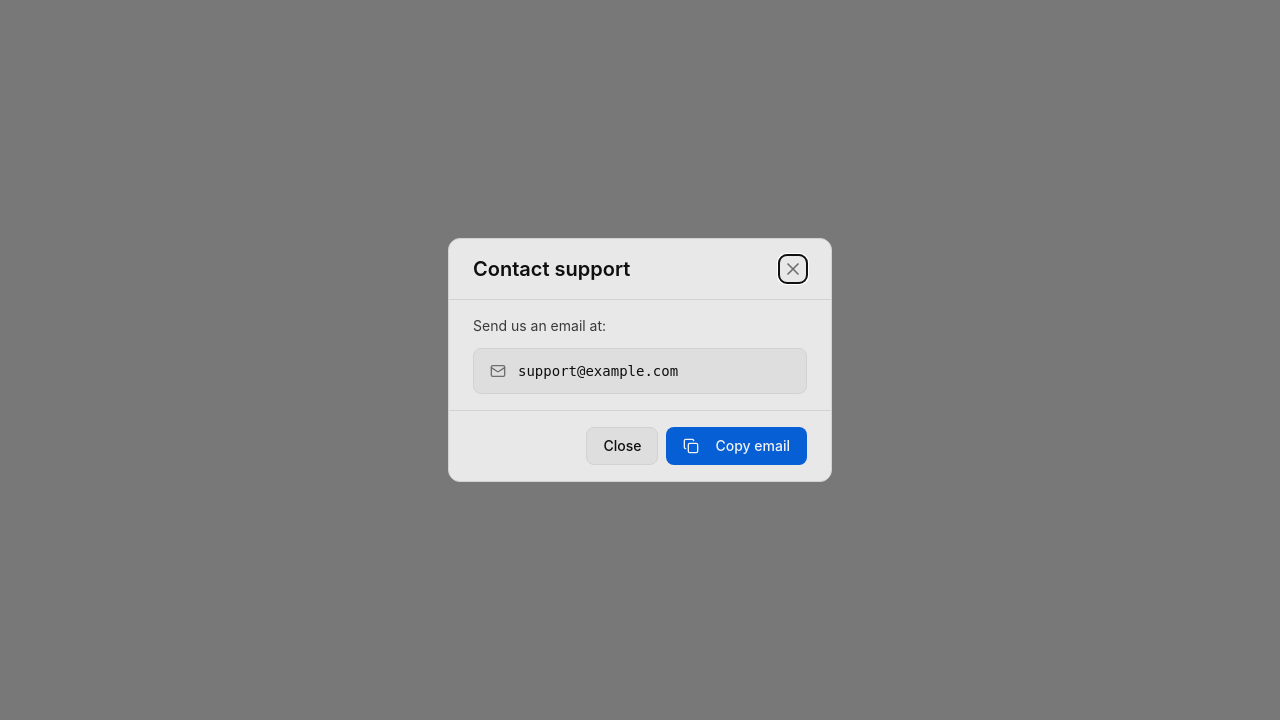
Test case: SupportModal › copy button writes email to clipboard and shows 'Copied'
The width and height of the screenshot is (1280, 720).
Click the button "Copy email" at (737, 446), box [666,427,807,465]
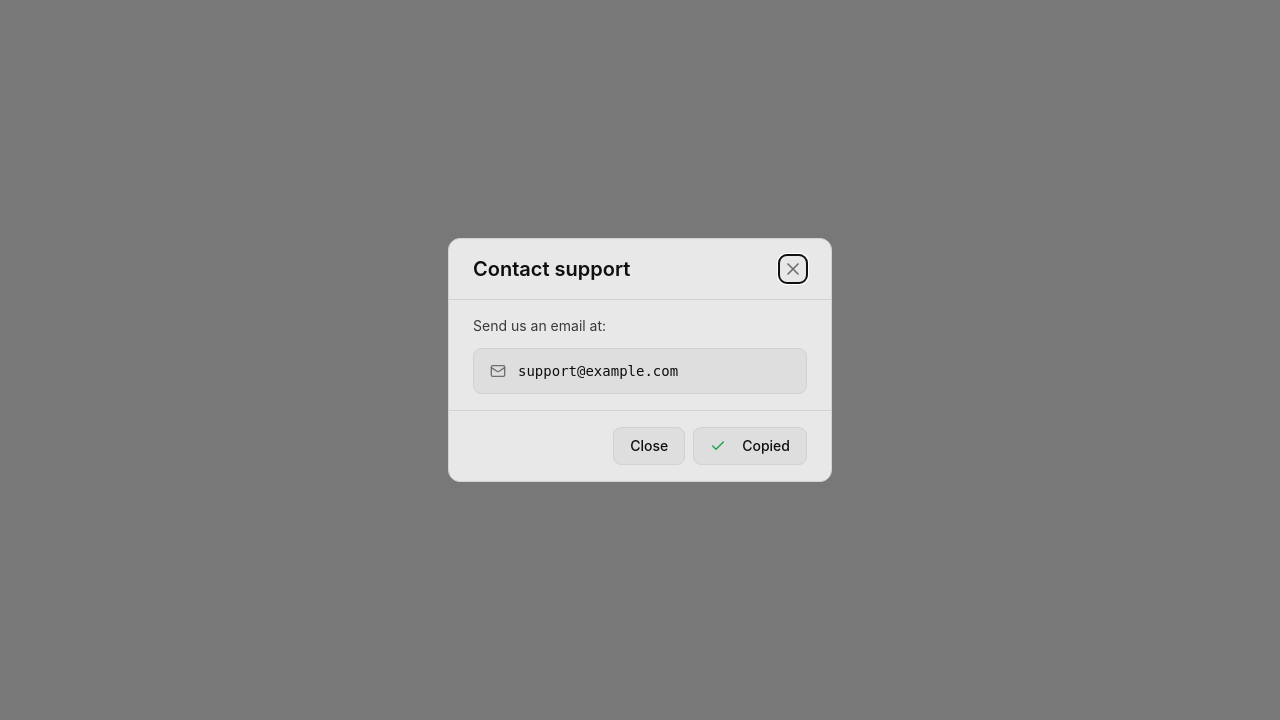
Now the button "Copied" is shown, box [693,427,807,465]
